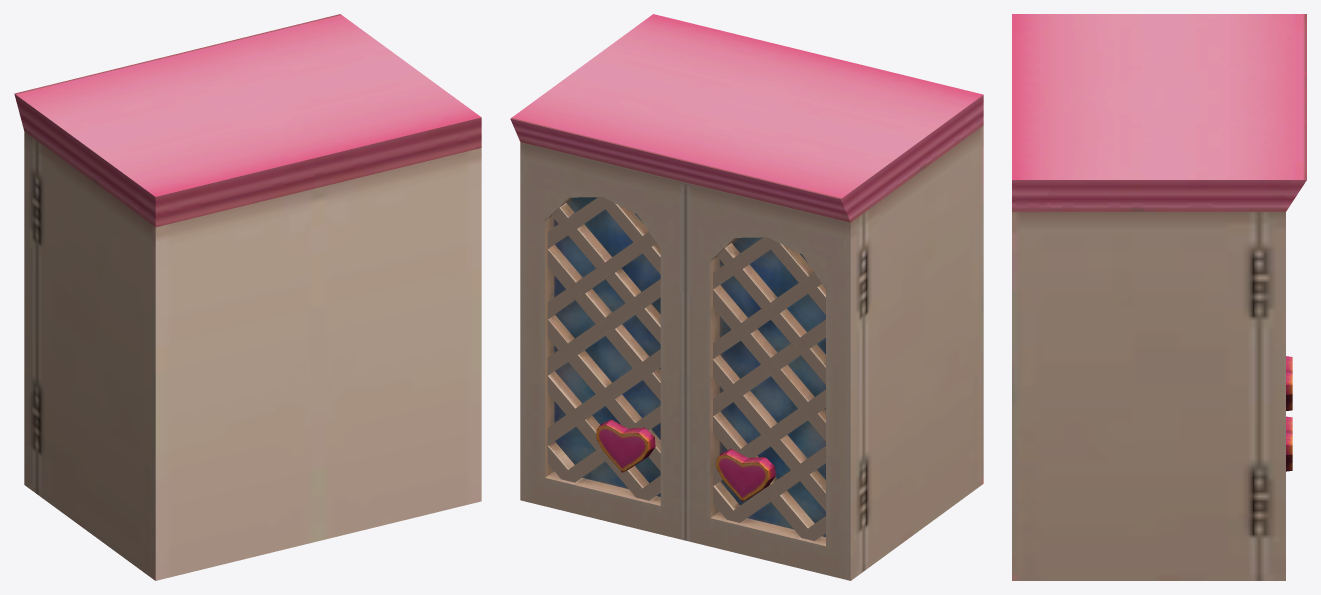
The model's file is furni_0200017.FBX.
3 views of the same model, side by side, from view 1: azimuth 30°, elevation 25°; view 2: azimuth 150°, elevation 25°; view 3: azimuth 270°, elevation 25° (orthographic). The views are drawn at different scales.
Visible parts, largest first — view 1: furni_0200017; view 2: furni_0200017; view 3: furni_0200017.
Part boxes in pixels (left/top/right/bottom): furni_0200017: left=14, top=14, right=481, bottom=580; furni_0200017: left=510, top=14, right=983, bottom=580; furni_0200017: left=1012, top=14, right=1306, bottom=580.
Size of the model in its own units: 80 by 90 by 60.
Materials: 1 (1 with a texture image).
